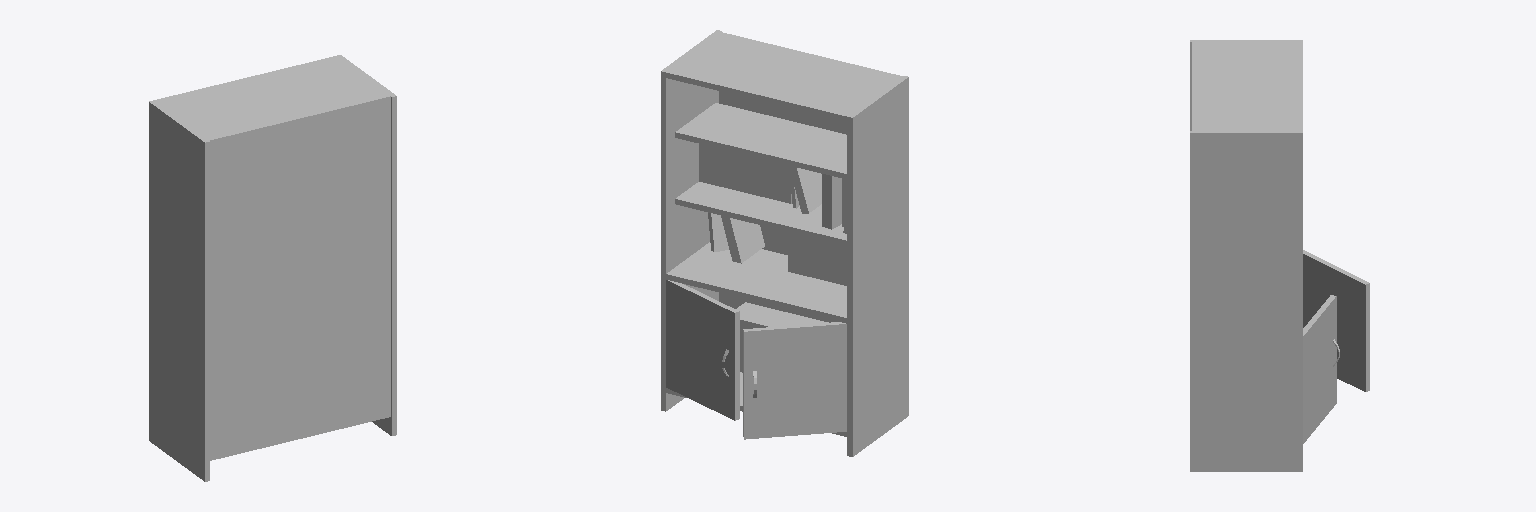
Rendered from Bookshelf03.obj.
3 views of the same model, side by side, from view 1: azimuth 30°, elevation 25°; view 2: azimuth 150°, elevation 25°; view 3: azimuth 270°, elevation 25° (orthographic).
Parts seen in each view (by area): view 1: Bookshelf03_LOD0_Bookshelf03_LOD0.003; view 2: Bookshelf03_LOD0_Bookshelf03_LOD0.003; view 3: Bookshelf03_LOD0_Bookshelf03_LOD0.003.
Boxes of the visible parts, x1,y1,x2,y2 form: Bookshelf03_LOD0_Bookshelf03_LOD0.003: [149, 55, 396, 481]; Bookshelf03_LOD0_Bookshelf03_LOD0.003: [661, 30, 908, 456]; Bookshelf03_LOD0_Bookshelf03_LOD0.003: [1190, 40, 1369, 471].
Bounding box in the file's own units: 1.21 × 2.04 × 0.9816.